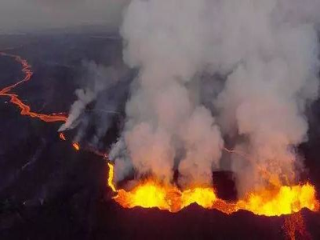fire: (109, 171, 315, 219)
smoke: (73, 8, 313, 169)
